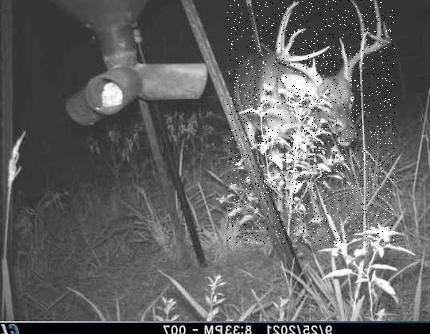Deer: (227, 0, 395, 245)
